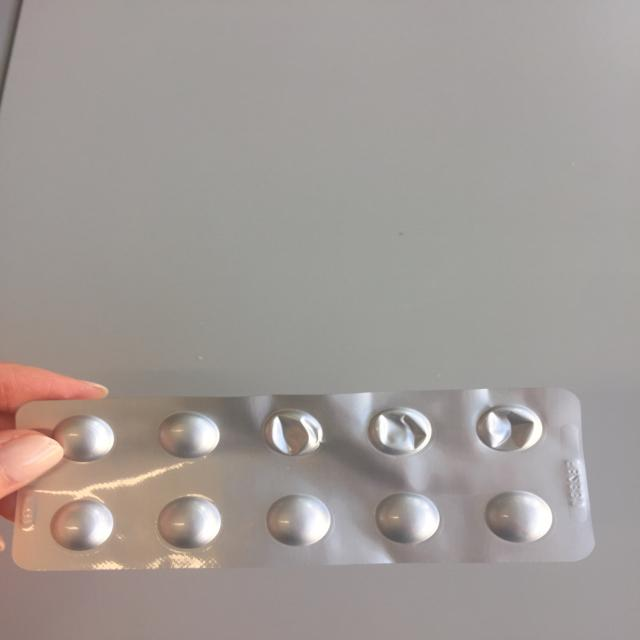Empty: (472, 401, 548, 456), (364, 403, 436, 459), (259, 406, 327, 462)
Pill: (370, 489, 449, 549), (154, 491, 230, 553), (264, 491, 340, 552), (480, 487, 556, 546), (47, 494, 119, 553), (150, 407, 224, 462), (49, 411, 119, 466)
